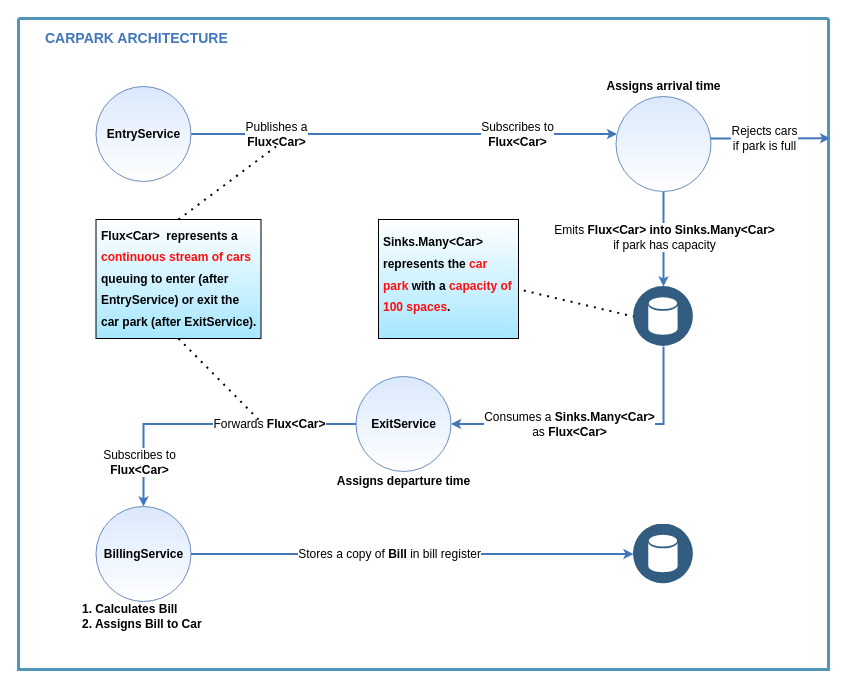
This 855x688 diagram has some shape labels left out. Here are the shapes that lost their labels. From the top down, the box of each, then its label:
(615, 96, 711, 192): ParkingService
(633, 286, 693, 346): Carpark Sinks.Many<Car>
(633, 524, 693, 584): Bill Register Set<Bill>
